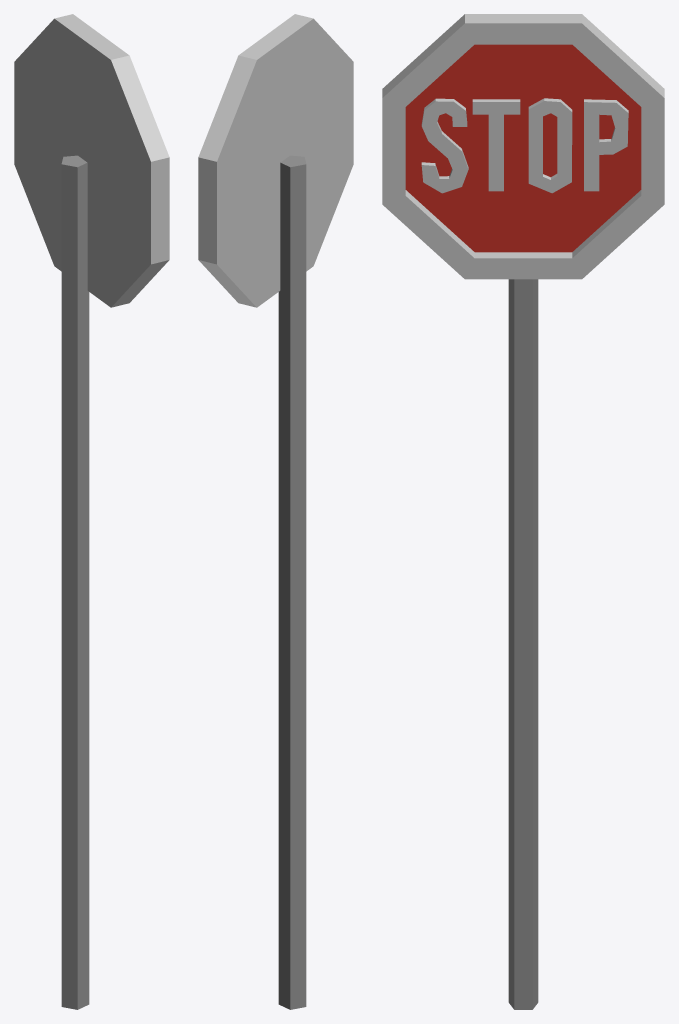
File: sign_stop.glb
The picture shows the model from 3 angles, left to right: view 1: azimuth 30°, elevation 25°; view 2: azimuth 150°, elevation 25°; view 3: azimuth 270°, elevation 25°; orthographic projection. The views are drawn at different scales.
Parts seen in each view (by area): view 1: White, Pole; view 2: White, Pole; view 3: White, Red, Pole.
Boxes of the visible parts, x1,y1,x2,y2 form: White: (14, 14, 169, 307); Pole: (61, 155, 89, 1009); White: (198, 14, 353, 307); Pole: (278, 155, 306, 1009); White: (382, 14, 664, 279); Red: (405, 44, 641, 252); Pole: (508, 279, 538, 1009).
Bounding box in the file's own units: 0.0233 × 0.5377 × 0.1384.
